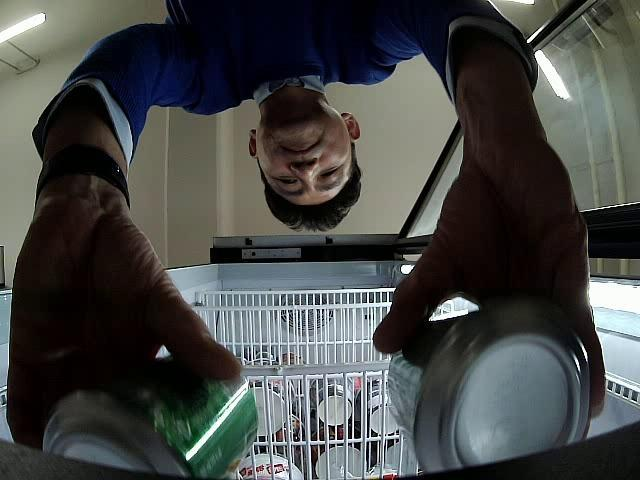12_chilsungCider: (387, 299, 592, 474), (43, 354, 259, 480)
